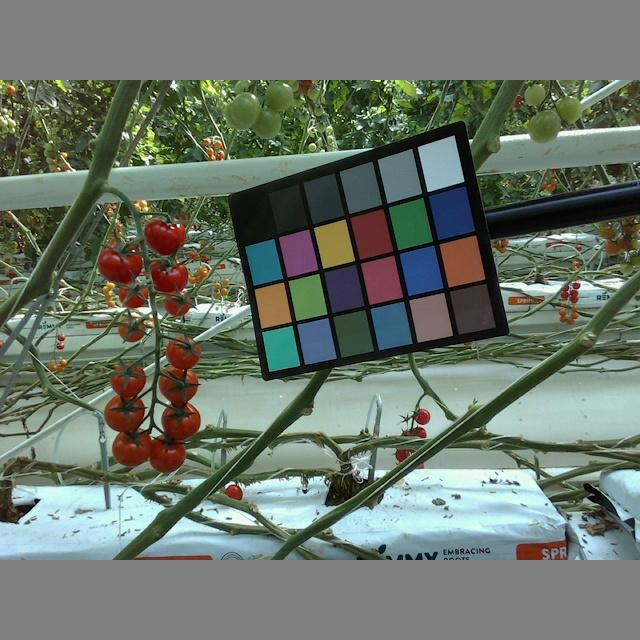green: (229, 88, 259, 130), (249, 106, 282, 139), (531, 109, 563, 143), (263, 82, 295, 114), (554, 95, 583, 126), (524, 83, 548, 106)
pink: (118, 281, 149, 307), (117, 316, 148, 342), (161, 293, 194, 316)
red: (143, 213, 187, 255), (102, 391, 145, 433), (97, 243, 142, 283), (146, 431, 187, 474), (110, 425, 152, 466), (146, 259, 189, 298), (157, 366, 198, 406), (161, 400, 201, 441), (165, 337, 203, 370), (111, 364, 147, 397)
